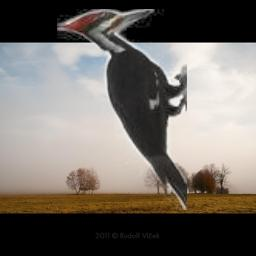Woodpecker: (57, 9, 187, 210)
